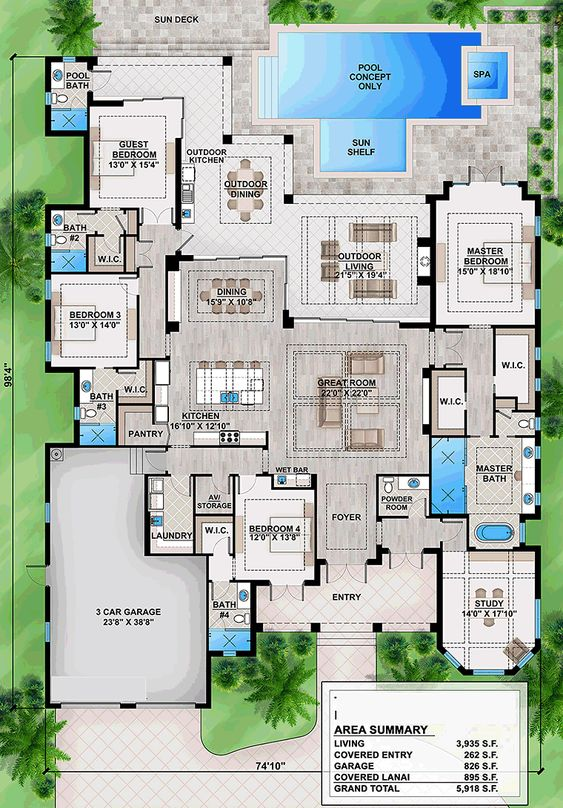door: (448, 329, 473, 366), (325, 566, 371, 586), (267, 585, 307, 607), (386, 555, 427, 576), (461, 162, 509, 178), (139, 202, 176, 219), (142, 238, 160, 268), (209, 477, 232, 497), (93, 68, 113, 89), (181, 228, 201, 249), (143, 449, 163, 470), (115, 275, 135, 296), (103, 234, 123, 255), (74, 210, 94, 231), (407, 494, 427, 515), (237, 476, 257, 497), (172, 476, 192, 497), (445, 519, 465, 540), (212, 531, 233, 548)
